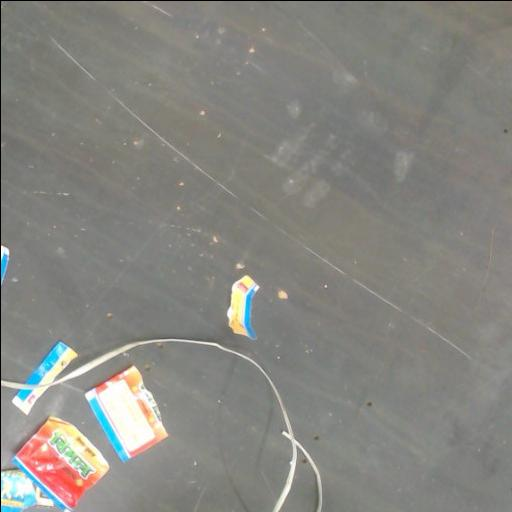conveyor belt: (1, 1, 512, 512), (1, 343, 290, 512), (280, 452, 315, 512)
packet: (1, 417, 108, 512), (85, 366, 167, 460), (26, 341, 76, 384), (227, 275, 258, 337), (12, 389, 42, 413), (1, 245, 8, 284)
thread: (48, 337, 322, 512), (1, 379, 32, 388)
